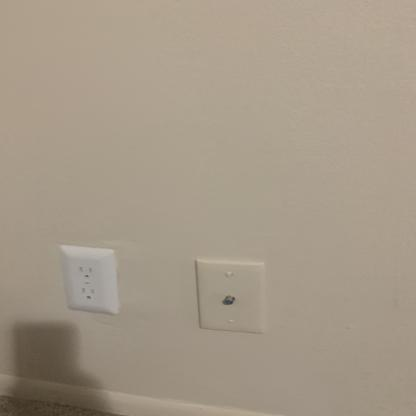OUTLET: (60, 245, 122, 316)
